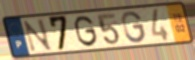4: (150, 7, 170, 43)
5: (95, 12, 122, 46)
7: (47, 15, 70, 52)
G: (120, 10, 147, 45), (74, 14, 100, 49)
N: (21, 17, 54, 53)
